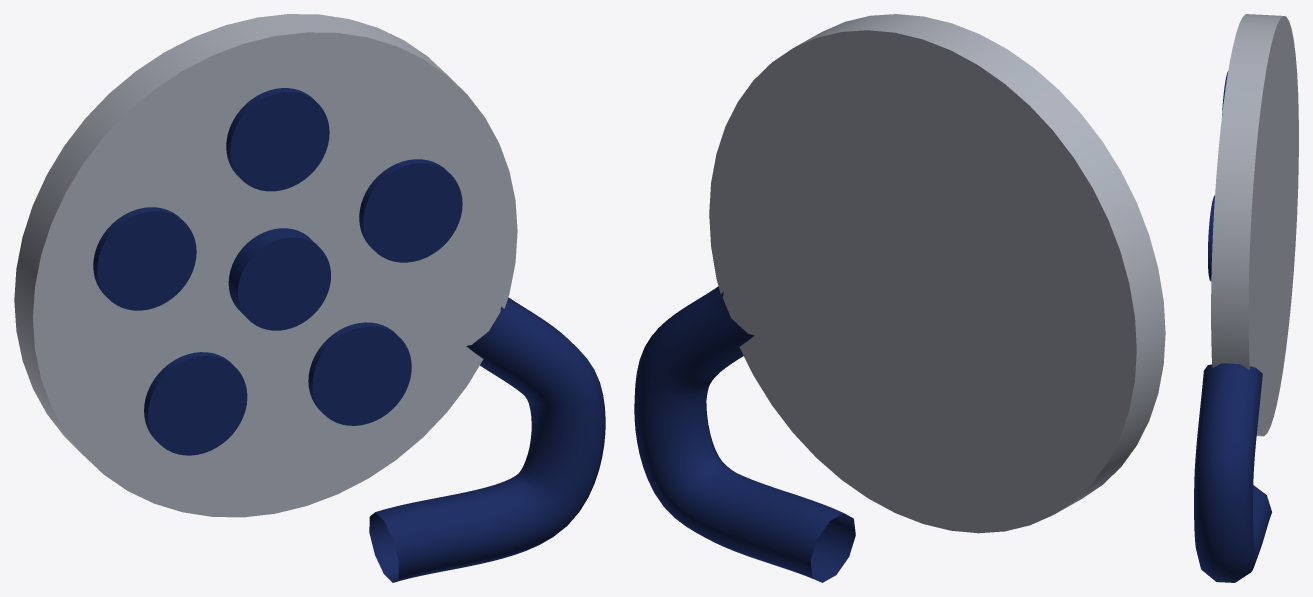
3 renders of one model, left to right at view 1: azimuth 30°, elevation 25°; view 2: azimuth 150°, elevation 25°; view 3: azimuth 270°, elevation 25°, orthographic. The views are drawn at different scales.
Visible parts, largest first — view 1: metal barrel (×7), unspooled story tail; view 2: metal barrel, unspooled story tail; view 3: metal barrel (×2), unspooled story tail.
Part boxes in pixels (box(x1,y1,x2,y2)): metal barrel (×7): box(14, 14, 517, 517); unspooled story tail: box(369, 297, 605, 582); metal barrel: box(709, 14, 1165, 533); unspooled story tail: box(634, 286, 855, 582); metal barrel (×2): box(1208, 14, 1298, 436); unspooled story tail: box(1194, 363, 1271, 582).
Bounding box in the file's own units: 1.86 × 1.87 × 0.3887.
